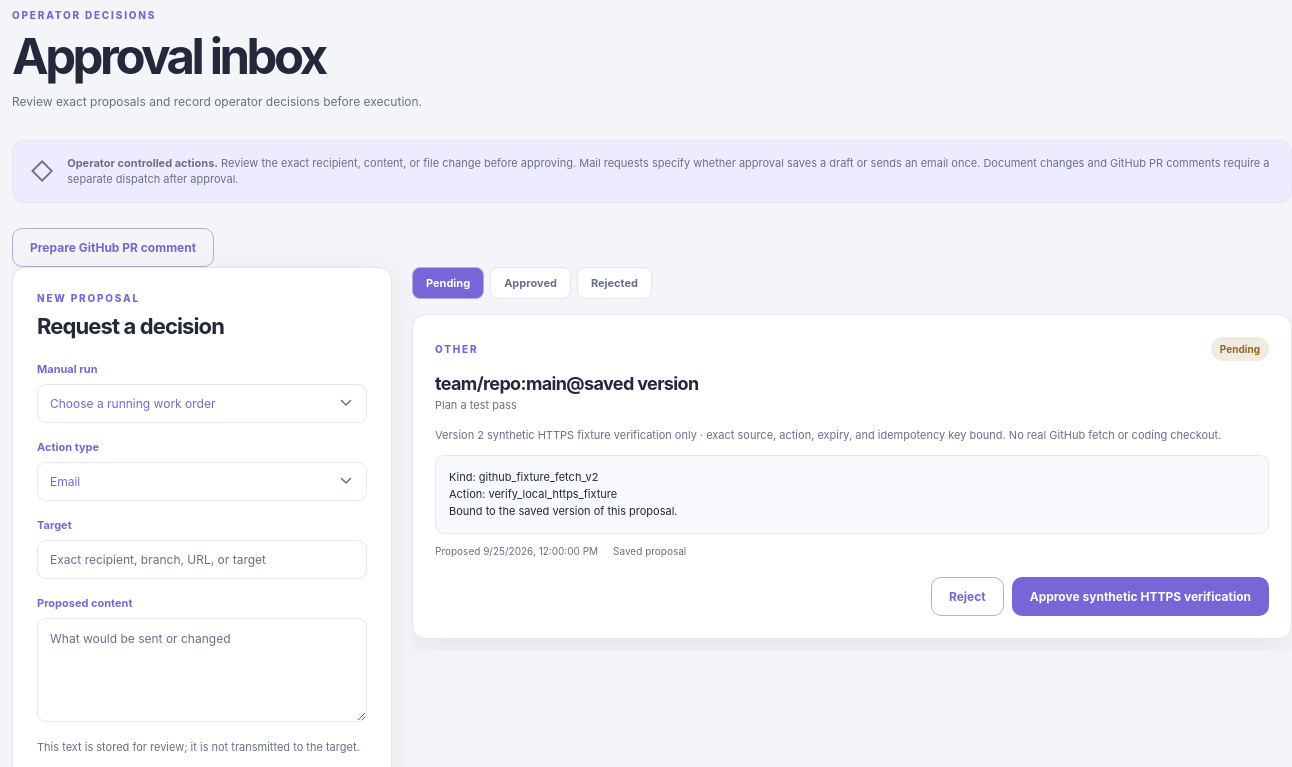
Test: shows a separate synthetic HTTPS approval and its verification-only receipt
This screenshot has width=1292, height=767.
Expected: the text "Version 2 synthetic HTTPS fixture verification only" is shown, top-left (435, 428), bottom-right (1221, 442)
Click the button "Approve synthetic HTTPS verification" at (1140,596), box top-left (1012, 577), bottom-right (1269, 616)
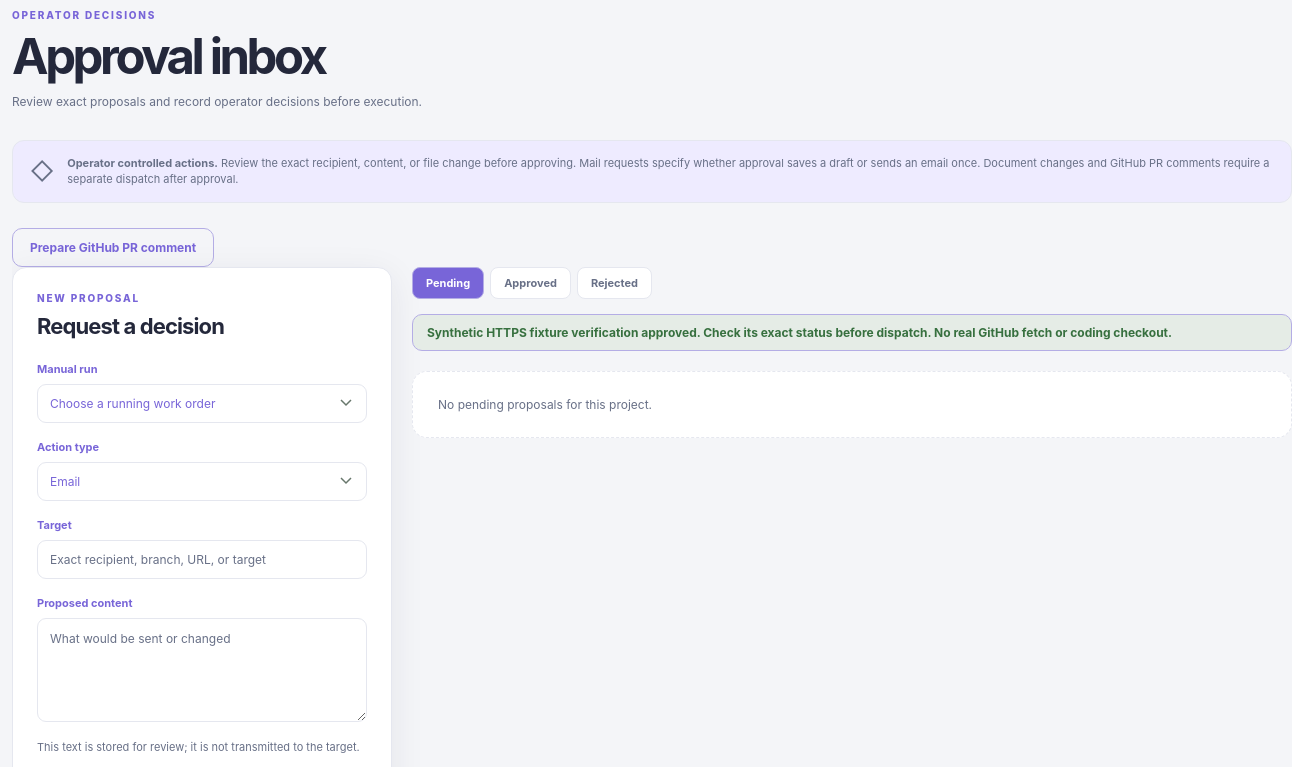
Click the button "approved" at (531,282), box top-left (490, 266), bottom-right (571, 298)
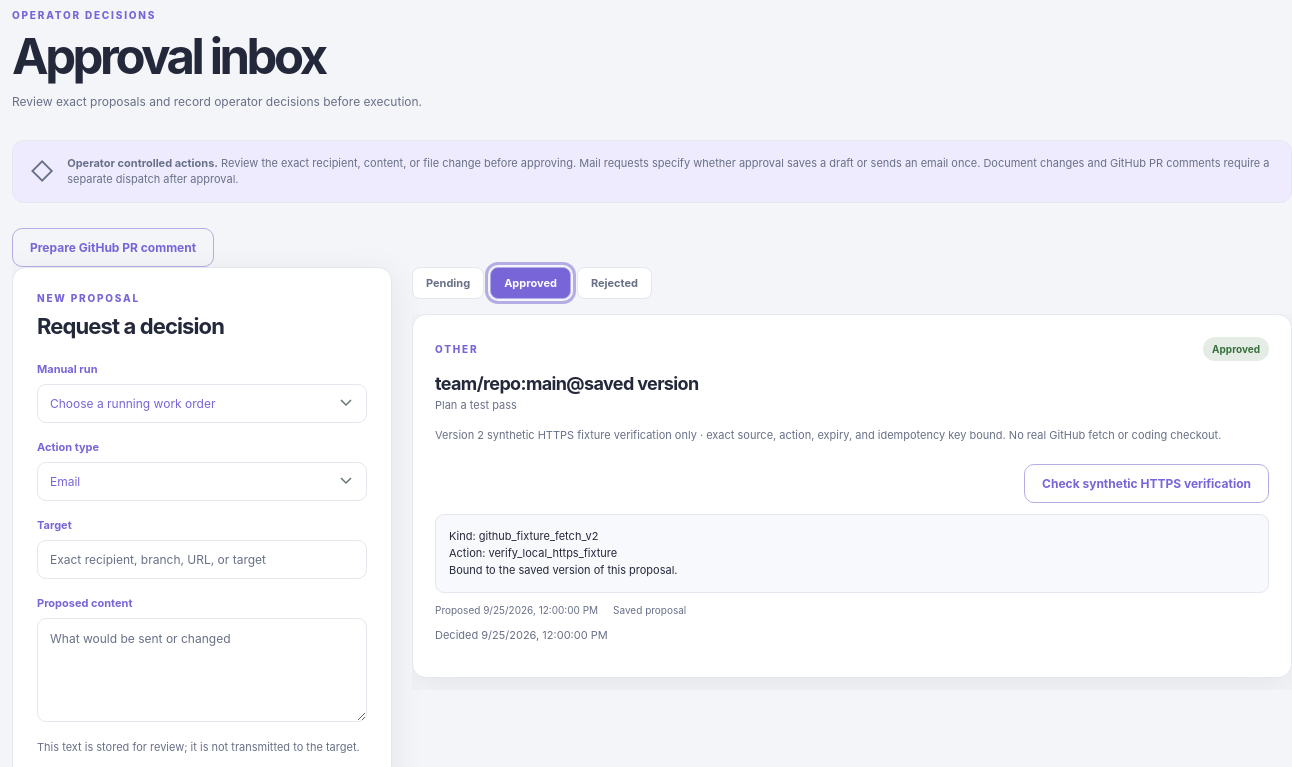
Click the button "Check synthetic HTTPS verification" at (1147,483), box top-left (1024, 464), bottom-right (1269, 503)
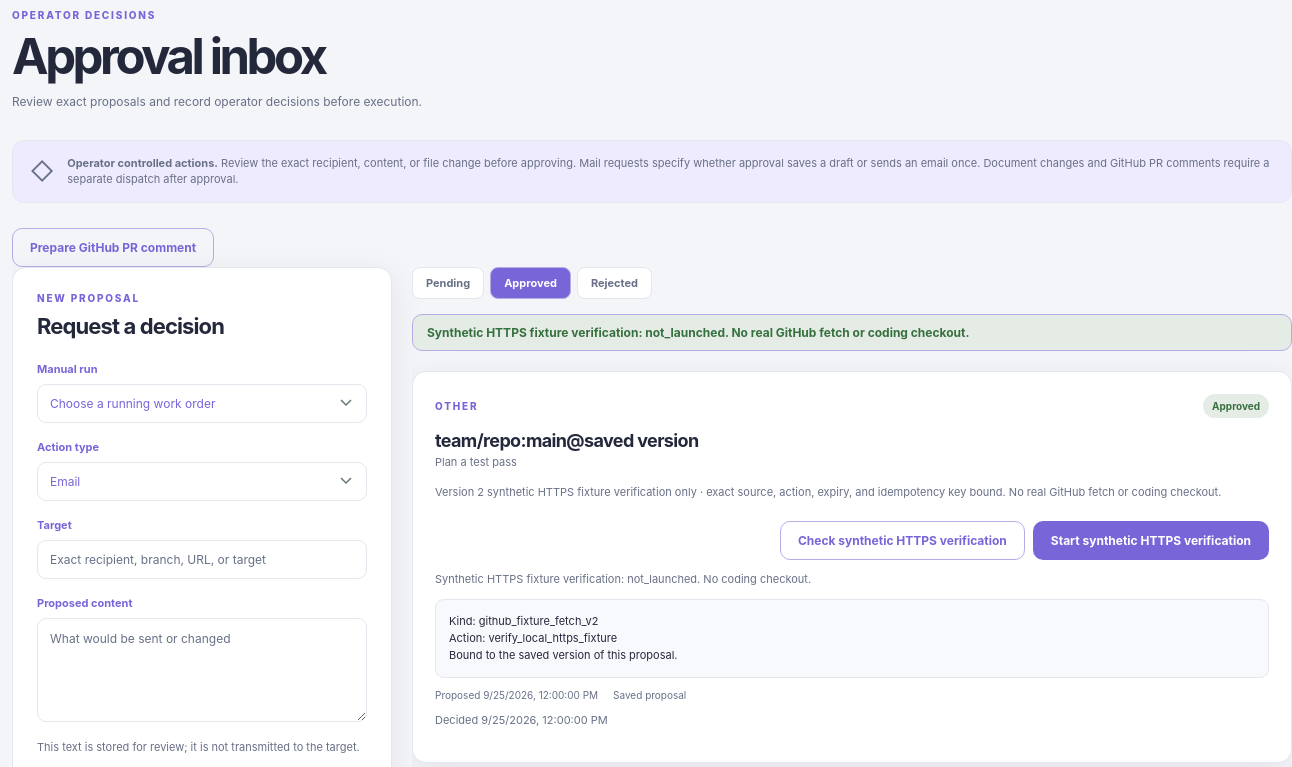
Click the button "Start synthetic HTTPS verification" at (1151,540), box top-left (1033, 521), bottom-right (1269, 560)
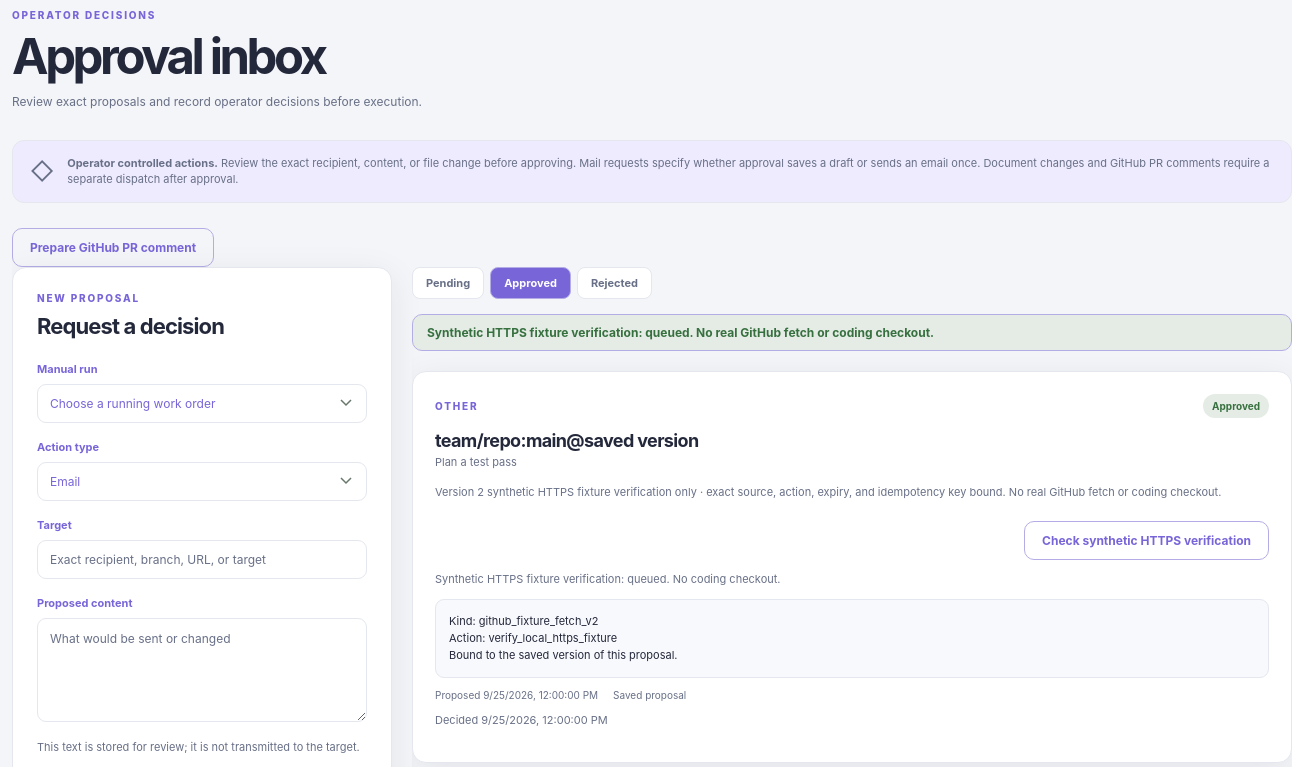
Now the text "Synthetic HTTPS fixture verification: queued. No real GitHub fetch or coding checkout." is shown, box top-left (427, 324), bottom-right (934, 340)
Now the button "Start synthetic HTTPS verification" is gone
